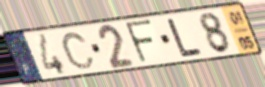2: (97, 23, 137, 71)
4: (37, 32, 66, 76)
8: (199, 11, 233, 55)
C: (60, 31, 96, 71)
F: (123, 18, 157, 65)
L: (165, 17, 205, 59)
